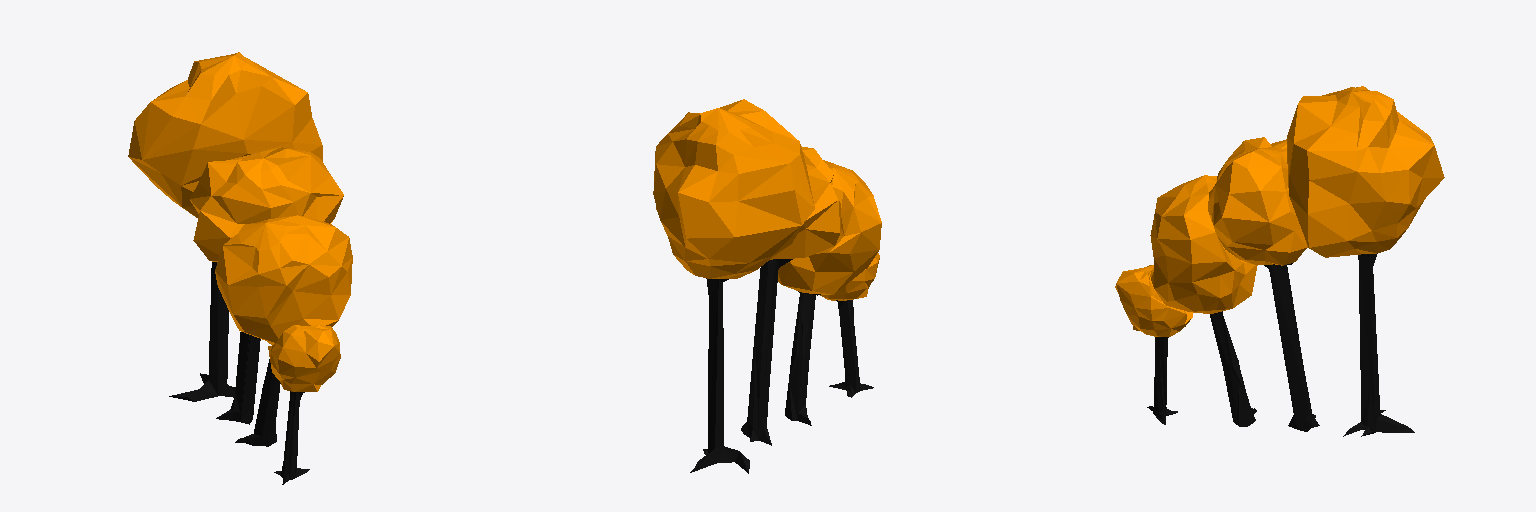
File: trees.obj
The picture shows the model from 3 angles: view 1: azimuth 30°, elevation 25°; view 2: azimuth 150°, elevation 25°; view 3: azimuth 270°, elevation 25°; orthographic projection.
Visible parts, largest first — view 1: mesh[number redacted], mesh[number redacted], mesh[number redacted], mesh[number redacted], mesh[number redacted], mesh[number redacted], mesh[number redacted], mesh[number redacted]; view 2: mesh[number redacted], mesh[number redacted], mesh[number redacted], mesh[number redacted], mesh[number redacted], mesh[number redacted], mesh[number redacted], mesh[number redacted]; view 3: mesh[number redacted], mesh[number redacted], mesh[number redacted], mesh[number redacted], mesh[number redacted], mesh[number redacted], mesh[number redacted], mesh[number redacted].
Boxes of the visible parts, box(x1,y1,x2,y2) form: mesh[number redacted]: box(128, 52, 322, 217); mesh[number redacted]: box(215, 215, 352, 344); mesh[number redacted]: box(190, 147, 343, 261); mesh[number redacted]: box(268, 325, 340, 391); mesh[number redacted]: box(169, 262, 234, 401); mesh[number redacted]: box(216, 332, 260, 424); mesh[number redacted]: box(235, 359, 280, 446); mesh[number redacted]: box(274, 391, 309, 484); mesh[number redacted]: box(653, 99, 814, 278); mesh[number redacted]: box(778, 160, 881, 294); mesh[number redacted]: box(741, 259, 792, 445); mesh[number redacted]: box(690, 278, 749, 473); mesh[number redacted]: box(770, 146, 840, 259); mesh[number redacted]: box(785, 291, 820, 425); mesh[number redacted]: box(829, 300, 873, 397); mesh[number redacted]: box(820, 253, 879, 300); mesh[number redacted]: box(1287, 86, 1444, 257); mesh[number redacted]: box(1150, 175, 1257, 313); mesh[number redacted]: box(1212, 137, 1306, 265); mesh[number redacted]: box(1343, 253, 1414, 436); mesh[number redacted]: box(1264, 263, 1319, 431); mesh[number redacted]: box(1115, 265, 1192, 336); mesh[number redacted]: box(1210, 311, 1256, 426); mesh[number redacted]: box(1147, 337, 1177, 424).
Size of the model in its own units: 1.51 by 3.04 by 2.66.